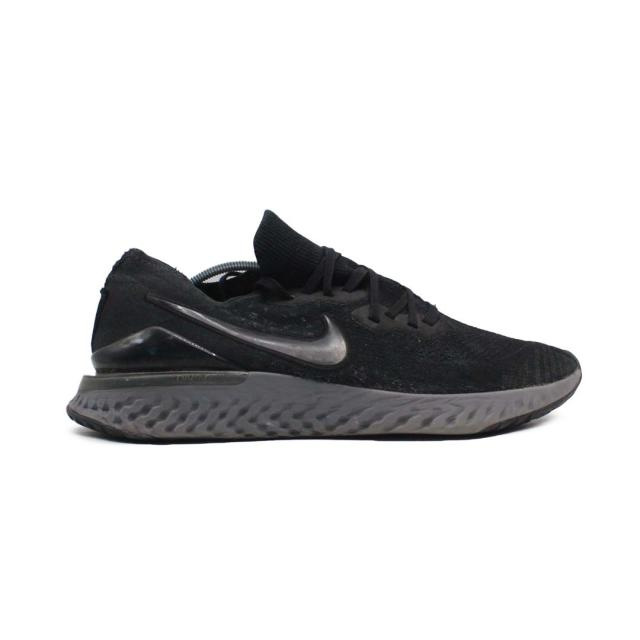heel: (84, 230, 147, 375)
midsole: (71, 364, 583, 438)
uppersole: (152, 225, 580, 386)
